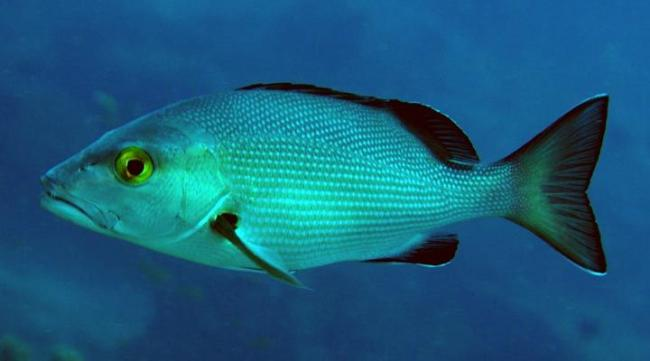fish: (38, 84, 611, 290)
